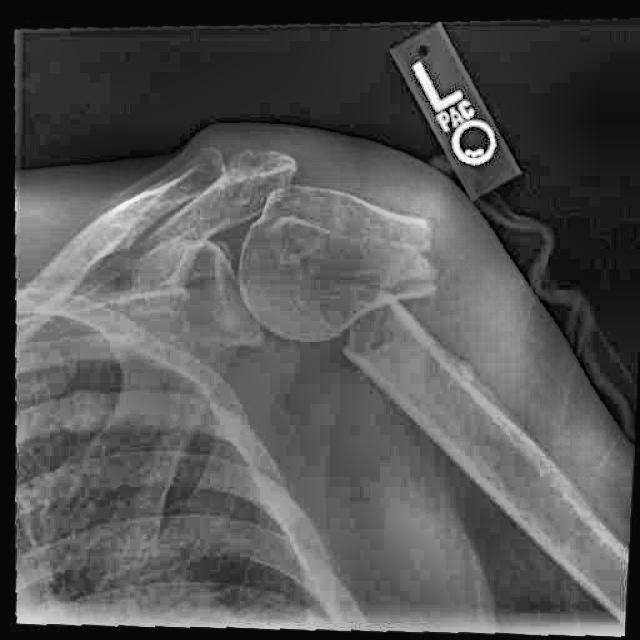shoulder fracture: (303, 177, 473, 442), (103, 155, 202, 266)
